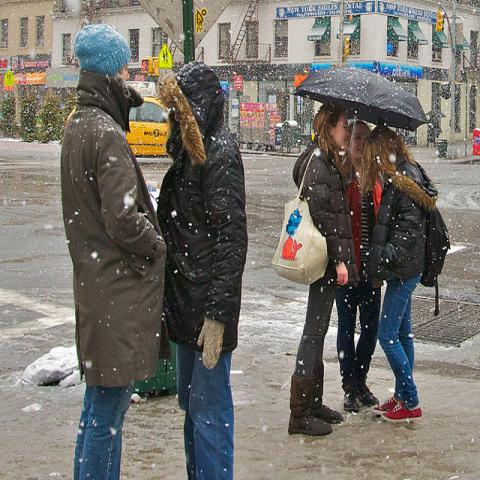car: (125, 96, 169, 157)
